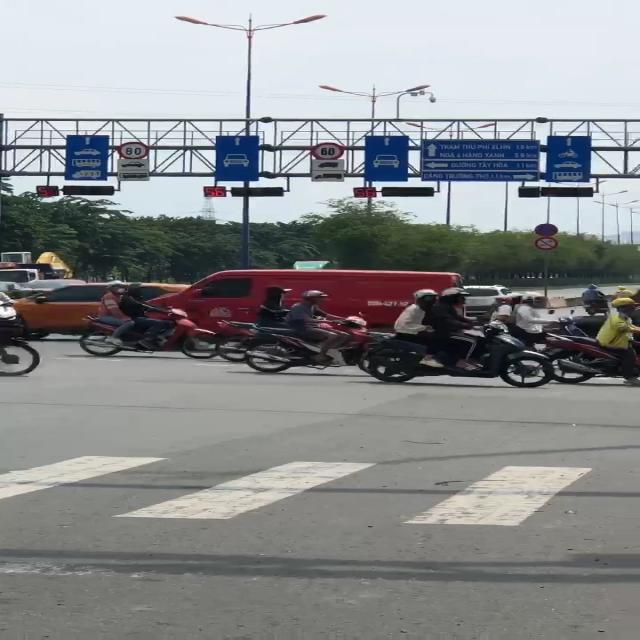Bien bao toc do toi da cho phep: (310, 140, 345, 162), (115, 140, 153, 160)
